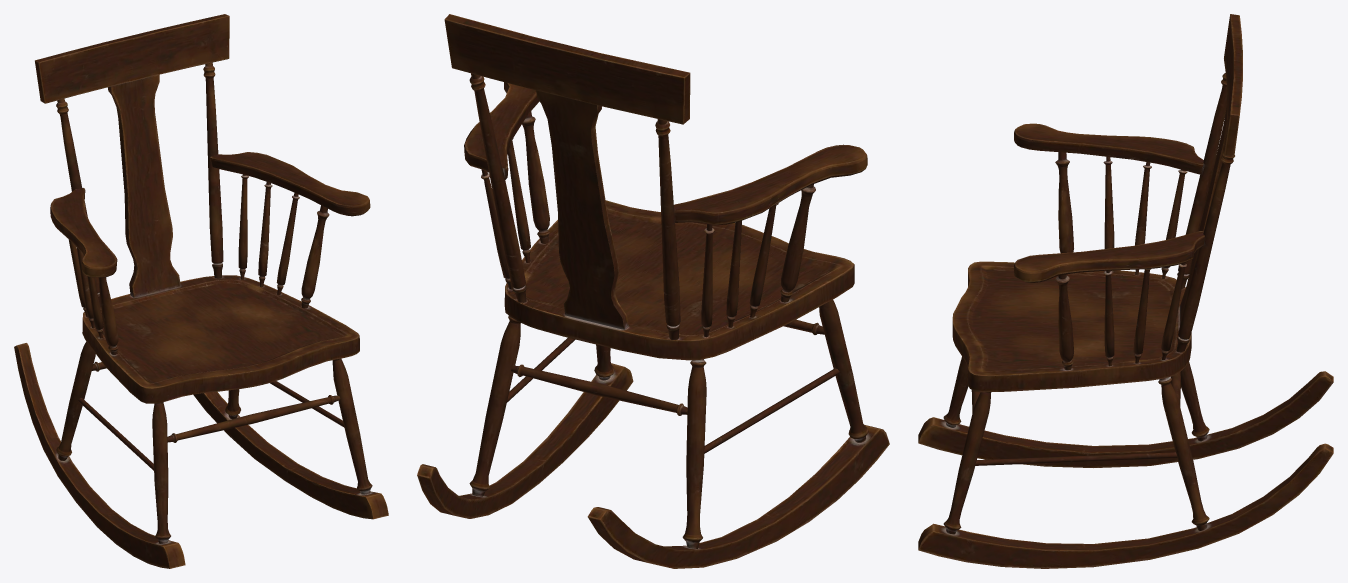
Rendered from Rockingchair_01.glb.
The picture shows the model from 3 angles, left to right: view 1: azimuth 30°, elevation 25°; view 2: azimuth 150°, elevation 25°; view 3: azimuth 270°, elevation 25°; orthographic projection. The views are drawn at different scales.
Visible parts, largest first — view 1: Rockingchair_01; view 2: Rockingchair_01; view 3: Rockingchair_01.
Boxes of the visible parts, left/top/right/bottom form: Rockingchair_01: left=14, top=14, right=388, bottom=568; Rockingchair_01: left=417, top=14, right=889, bottom=568; Rockingchair_01: left=918, top=14, right=1333, bottom=568.
Bounding box in the file's own units: 0.7081 × 0.9949 × 0.8335.
1 material, 1 textured.
